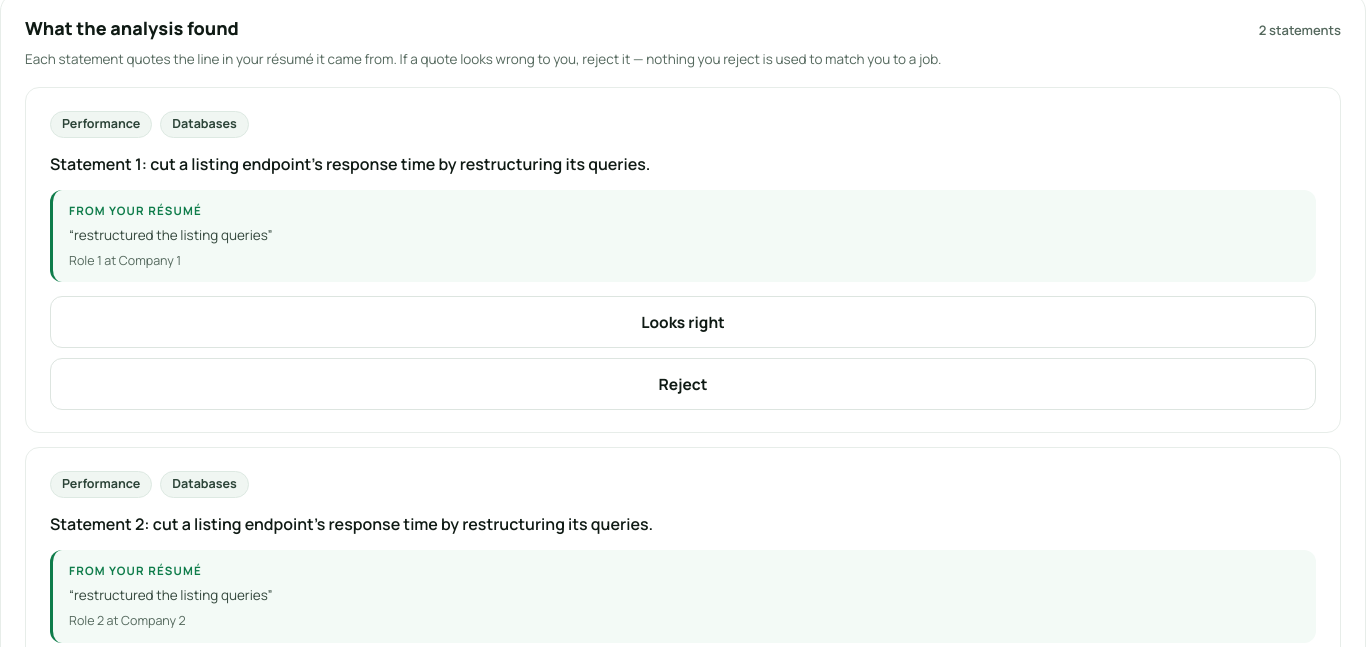
Test: AnalysisFlow › lists the Statements with their Evidence, and a rejected one is marked as not used
(page scrolled)
Click the 1st button "Reject". click: (683, 384)
box: [50,358,1316,410]
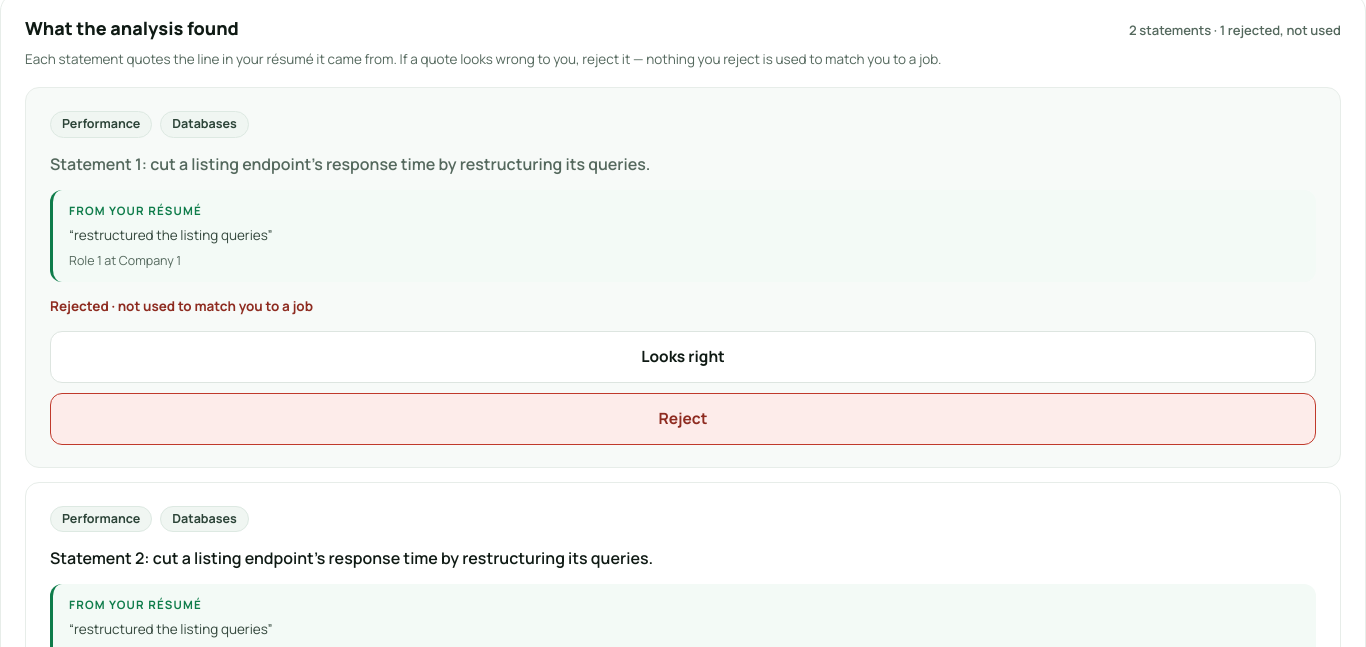
Check: the text "Rejected · not used to match you to a job" is shown, box [50,297,313,315]
Check: the text "2 statements · 1 rejected, not used" is shown, box [1129,21,1341,41]
